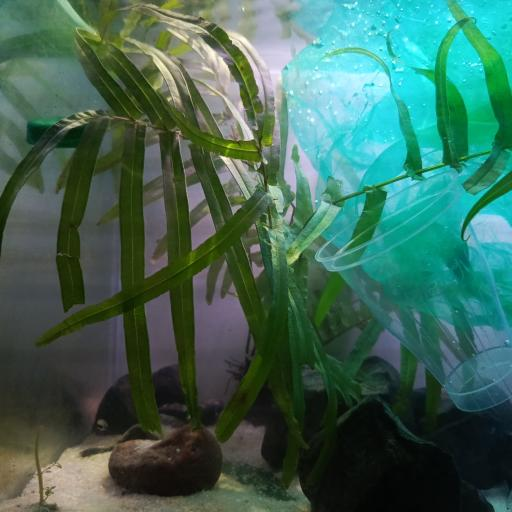bottle_cap: (27, 116, 88, 150)
plastic_bag: (281, 0, 512, 327)
plastic_cup: (318, 172, 512, 412)
